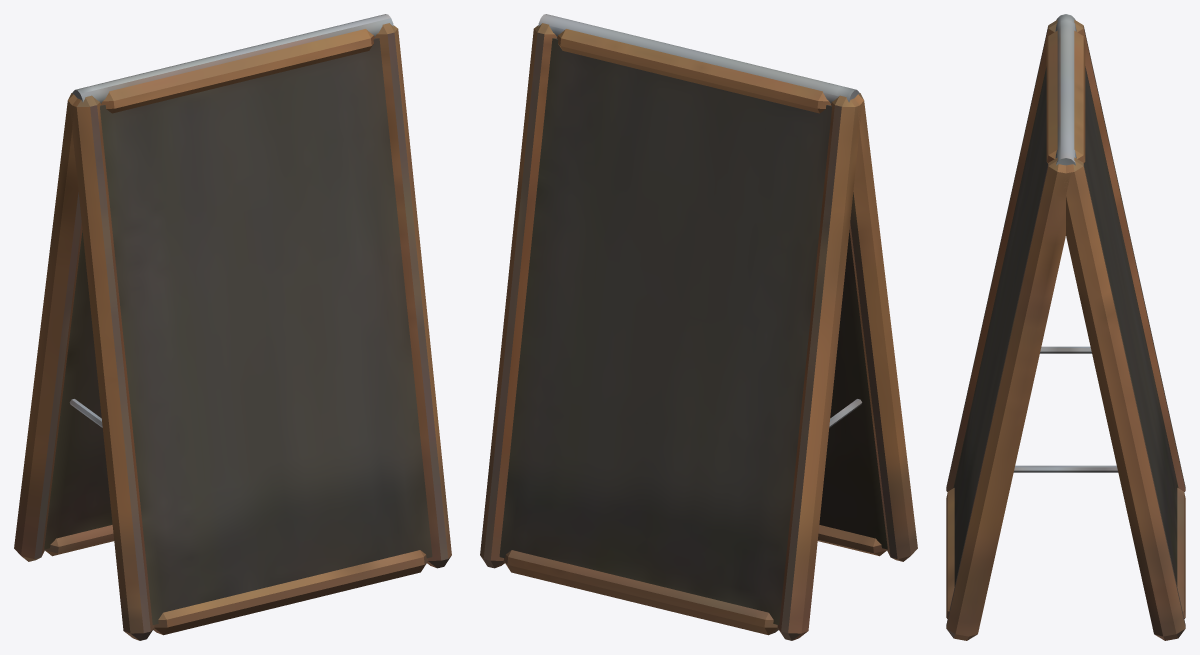
Rendered from sign_aboard.glb.
3 renders of one model, left to right at view 1: azimuth 30°, elevation 25°; view 2: azimuth 150°, elevation 25°; view 3: azimuth 270°, elevation 25°, orthographic. The views are drawn at different scales.
Visible parts, largest first — view 1: sign_aboard; view 2: sign_aboard; view 3: sign_aboard.
Part boxes in pixels (x1,y1,x2,y2): sign_aboard: [14, 14, 451, 640]; sign_aboard: [480, 14, 917, 640]; sign_aboard: [946, 14, 1185, 640].
Bounding box in the file's own units: 0.6 × 0.9103 × 0.4077.
Materials: 3 (3 with a texture image).
